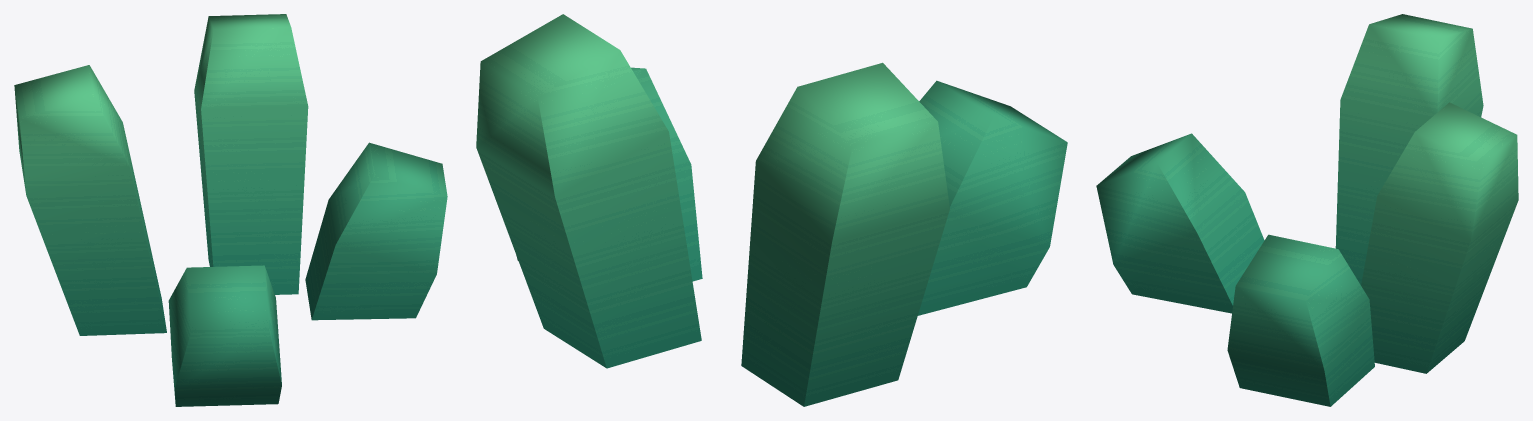
The model's file is grass.001_lev2.glb.
The picture shows the model from 3 angles, left to right: view 1: azimuth 30°, elevation 25°; view 2: azimuth 150°, elevation 25°; view 3: azimuth 270°, elevation 25°; orthographic projection. The views are drawn at different scales.
Parts seen in each view (by area): view 1: grass.001_lev2; view 2: grass.001_lev2; view 3: grass.001_lev2.
Boxes of the visible parts, x1,y1,x2,y2 form: grass.001_lev2: (14, 14, 447, 406); grass.001_lev2: (476, 14, 1067, 406); grass.001_lev2: (1096, 14, 1518, 406).
Size of the model in its own units: 0.5228 by 0.3139 by 0.5056.
1 material, 1 textured.
